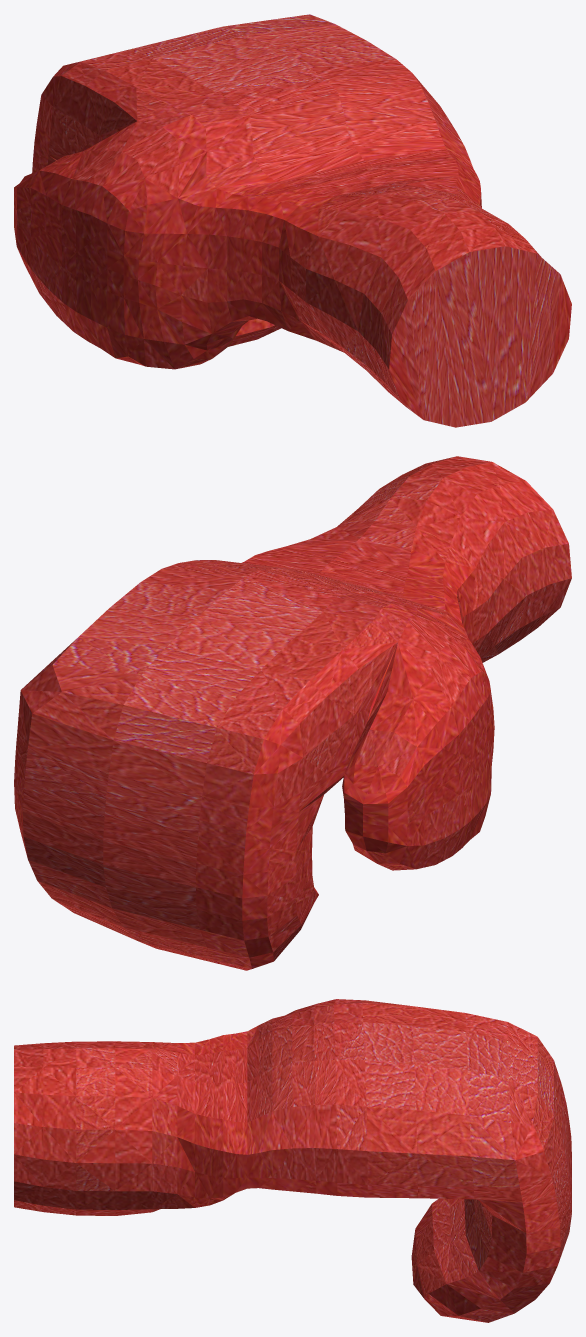
File: glove_left.obj
3 renders of one model, top to bottom at view 1: azimuth 30°, elevation 25°; view 2: azimuth 150°, elevation 25°; view 3: azimuth 270°, elevation 25°, orthographic. The views are drawn at different scales.
Visible parts, largest first — view 1: mmGroup0; view 2: mmGroup0; view 3: mmGroup0.
Boxes of the visible parts, <box> form: mmGroup0: <box>14,14,571,427</box>; mmGroup0: <box>14,456,571,970</box>; mmGroup0: <box>14,999,571,1322</box>.
Bounding box in the file's own units: 5.27 × 4.36 × 8.63.
Materials: 1 (1 with a texture image).
